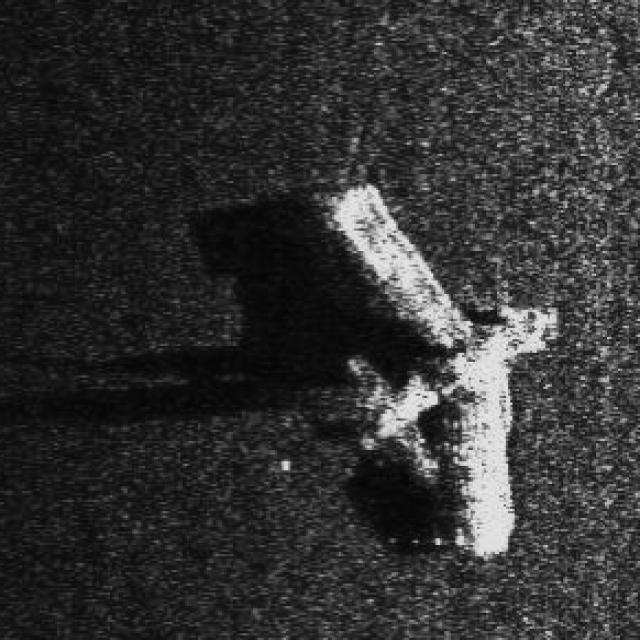plane: (222, 158, 596, 577)
